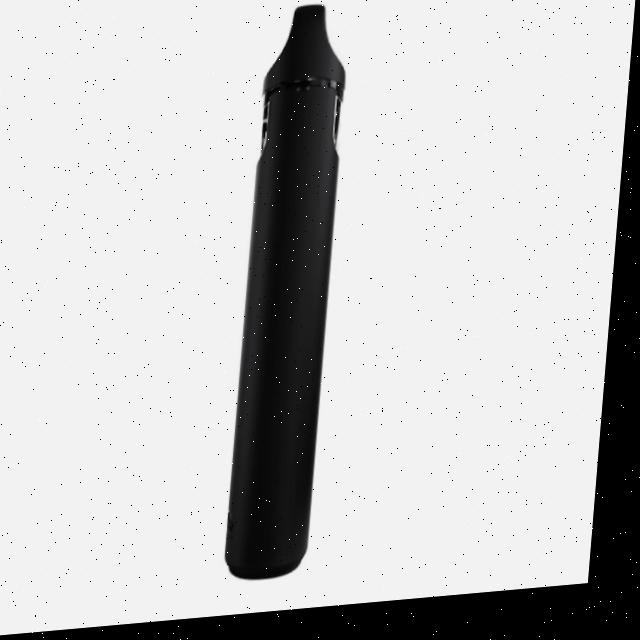vape: (233, 6, 355, 588)
